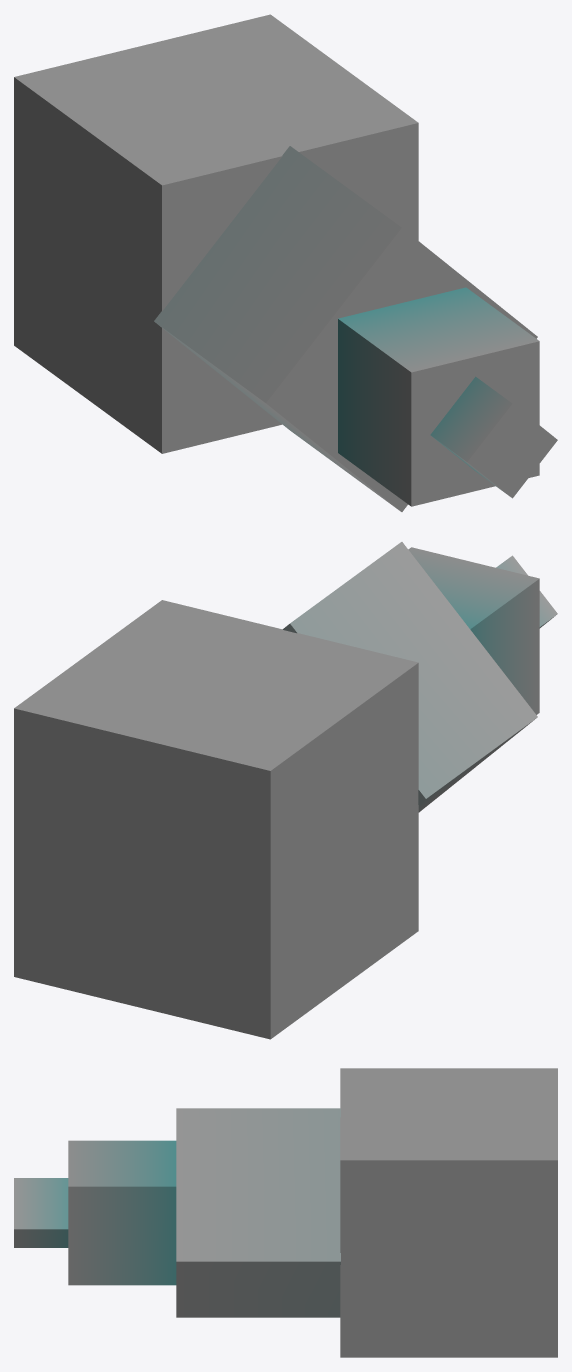
3 views of the same model, one above another, from view 1: azimuth 30°, elevation 25°; view 2: azimuth 150°, elevation 25°; view 3: azimuth 270°, elevation 25° (orthographic). The views are drawn at different scales.
Parts seen in each view (by area): view 1: large_cube, connecting_shaft, small_cube, end_stub; view 2: large_cube, connecting_shaft, small_cube, end_stub; view 3: large_cube, connecting_shaft, small_cube, end_stub.
Part boxes in pixels (x1,y1,x2,y2): large_cube: [14, 14, 418, 453]; connecting_shaft: [154, 146, 537, 511]; small_cube: [338, 287, 539, 506]; end_stub: [430, 376, 557, 498]; large_cube: [14, 600, 418, 1039]; connecting_shaft: [282, 542, 537, 812]; small_cube: [408, 547, 539, 714]; end_stub: [496, 555, 557, 628]; large_cube: [340, 1068, 557, 1357]; connecting_shaft: [176, 1108, 340, 1317]; small_cube: [68, 1140, 176, 1285]; end_stub: [14, 1178, 68, 1247].
Bounding box in the file's own units: 0.1273 × 0.1273 × 0.3.
